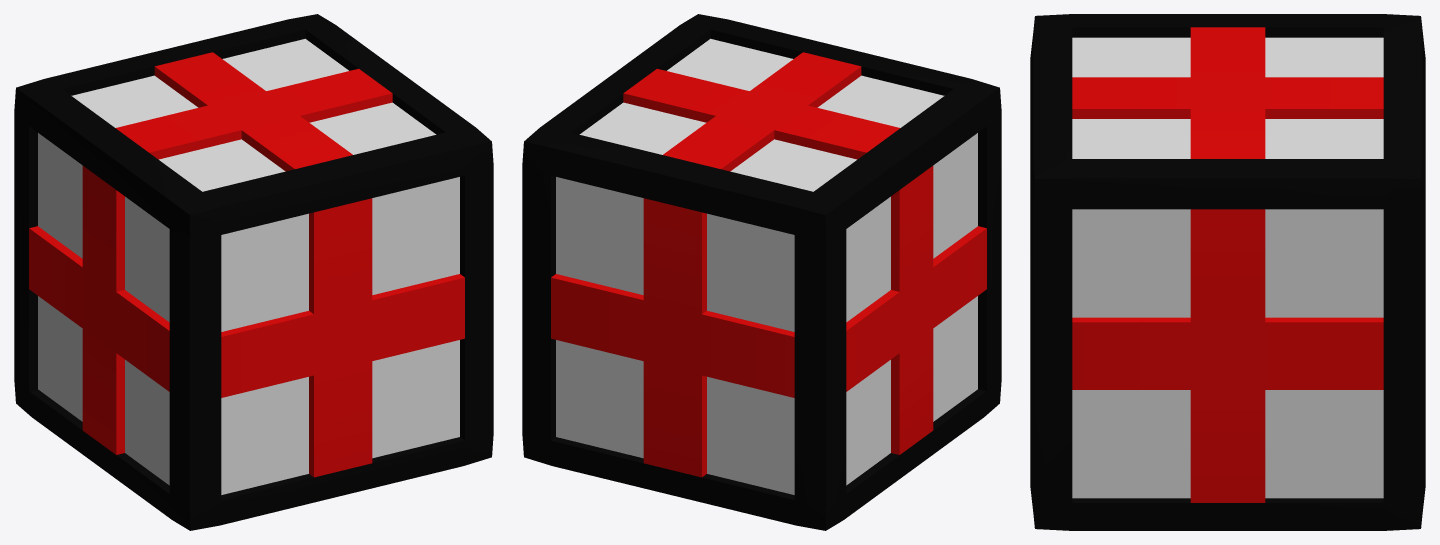
The model's file is Large_HP.fbx.
The picture shows the model from 3 angles, left to right: view 1: azimuth 30°, elevation 25°; view 2: azimuth 150°, elevation 25°; view 3: azimuth 270°, elevation 25°; orthographic projection. The views are drawn at different scales.
Visible parts, largest first — view 1: Large_HP; view 2: Large_HP; view 3: Large_HP.
Boxes of the visible parts, x1,y1,x2,y2 form: Large_HP: [14, 14, 493, 530]; Large_HP: [522, 14, 1001, 530]; Large_HP: [1030, 14, 1425, 530].
Size of the model in its own units: 0.848 by 0.848 by 0.848.
